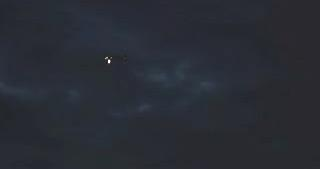Plane: (97, 53, 121, 68)
